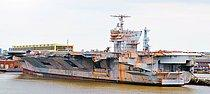MIL_Ship: (16, 14, 197, 88)
